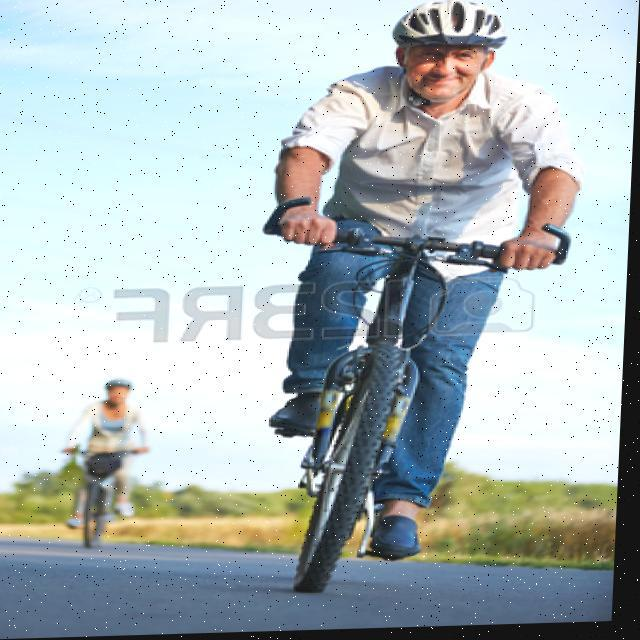With Helmet: (387, 0, 514, 106), (98, 375, 137, 411)
